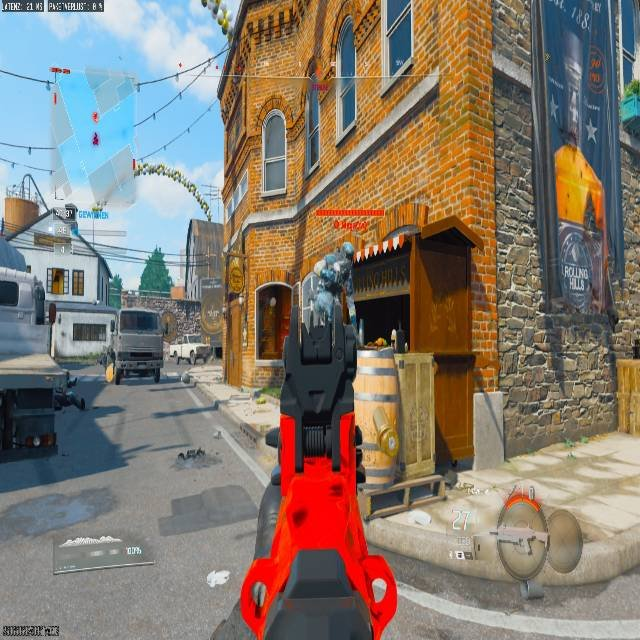head: (341, 242, 355, 260)
player: (312, 242, 358, 324)
